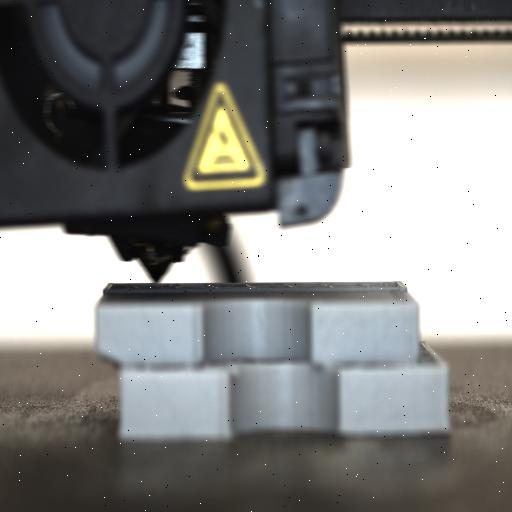layer_shift: (96, 345, 450, 379)
